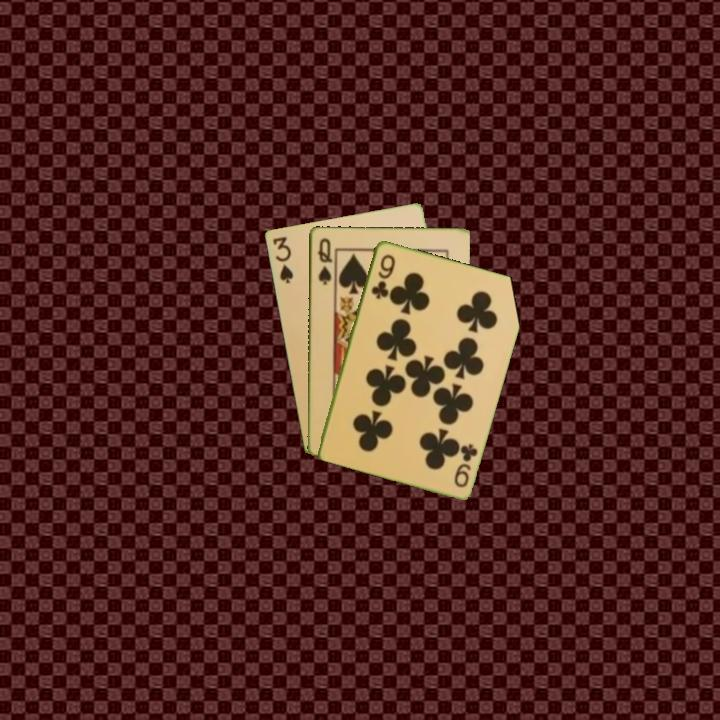3s: (269, 233, 296, 286)
9c: (368, 250, 398, 301), (450, 440, 480, 490)
Qs: (314, 234, 334, 287)
